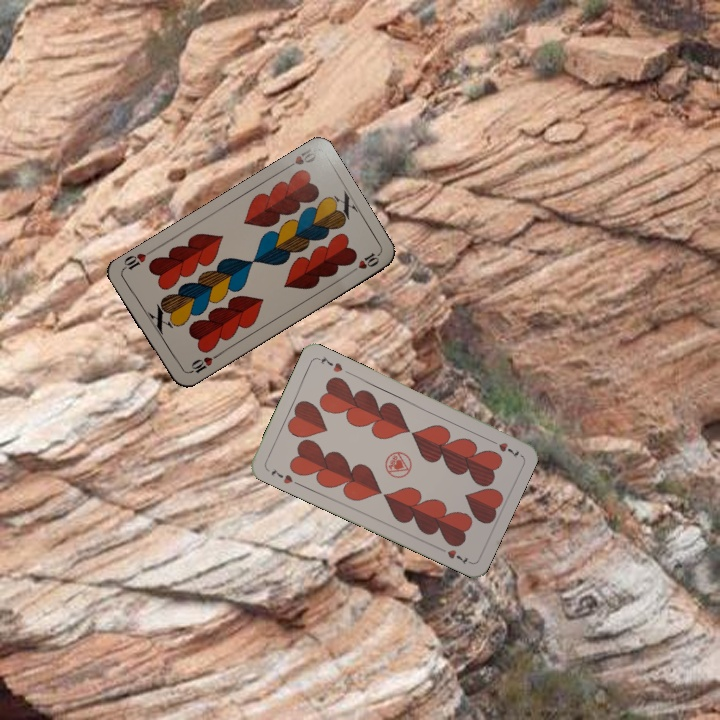H10: (280, 144, 319, 172), (184, 351, 221, 376)
H7: (485, 435, 522, 460), (267, 464, 295, 486)
